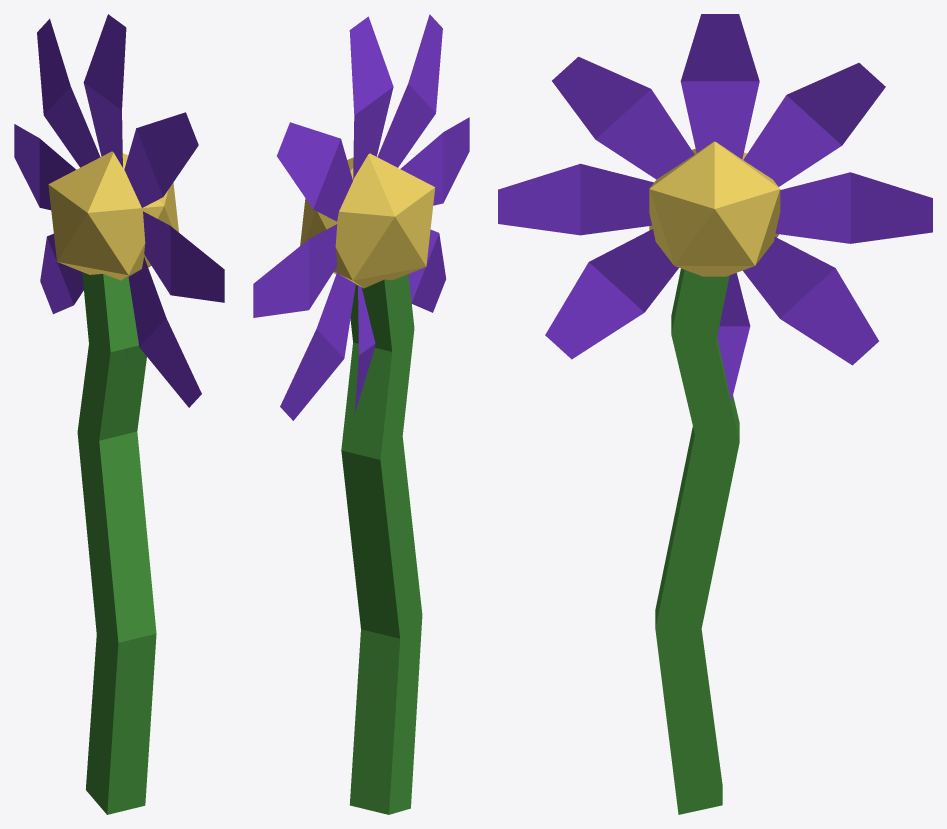
Rendered from flower_basic.fbx.
The picture shows the model from 3 angles, left to right: view 1: azimuth 30°, elevation 25°; view 2: azimuth 150°, elevation 25°; view 3: azimuth 270°, elevation 25°; orthographic projection. The views are drawn at different scales.
Parts seen in each view (by area): view 1: Plane; view 2: Plane; view 3: Plane.
Part boxes in pixels (left/top/right/bottom): Plane: left=14, top=14, right=224, bottom=814; Plane: left=253, top=14, right=469, bottom=814; Plane: left=498, top=14, right=932, bottom=814.
Bounding box in the file's own units: 90.79 × 580 × 287.
